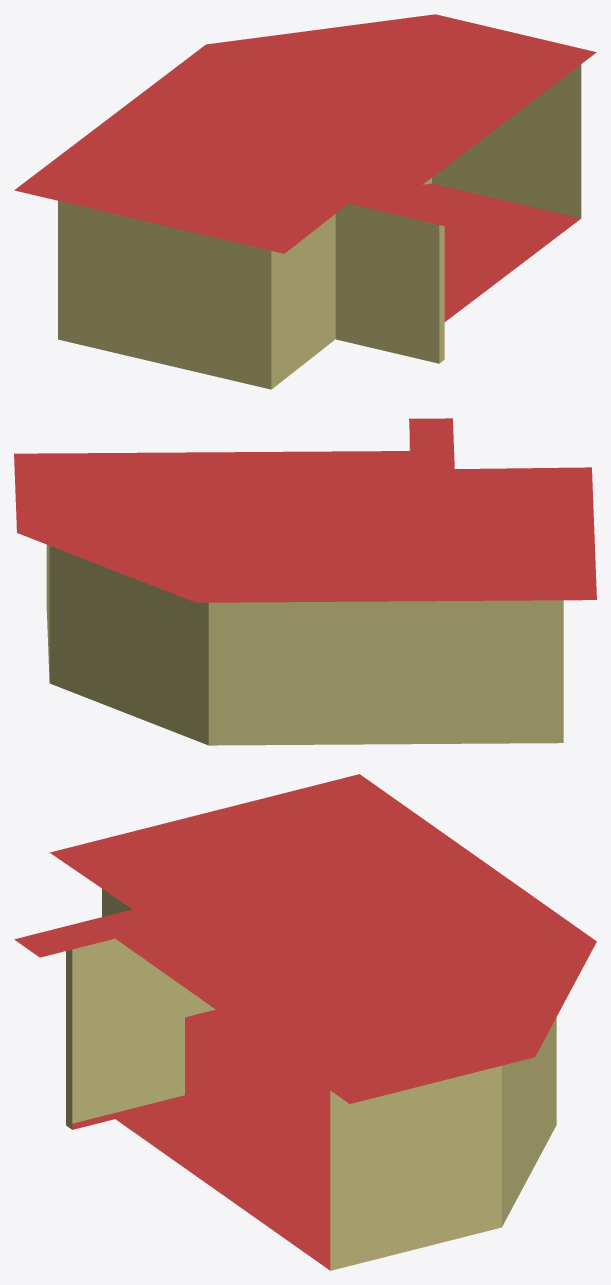
3 views of the same model, one above another, from view 1: azimuth 30°, elevation 25°; view 2: azimuth 150°, elevation 25°; view 3: azimuth 270°, elevation 25° (orthographic). The views are drawn at different scales.
Size of the model in its own units: 15.49 by 11.56 by 3.95.
